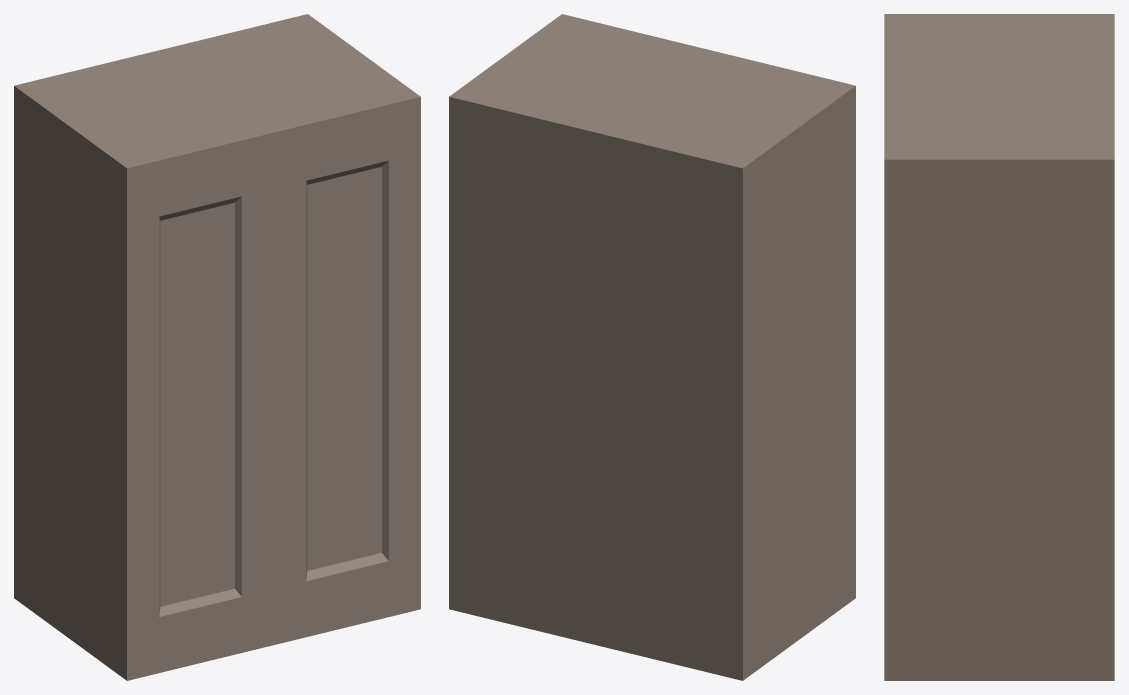
The model's file is WHP-Wall-Cabinet-Double-Door-Shelves_std_001_W18in.glb.
The picture shows the model from 3 angles, left to right: view 1: azimuth 30°, elevation 25°; view 2: azimuth 150°, elevation 25°; view 3: azimuth 270°, elevation 25°; orthographic projection.
Visible parts, largest first — view 1: WHP-Wall-Cabinet-Double-Door-Shelves.std.001_W18in; view 2: WHP-Wall-Cabinet-Double-Door-Shelves.std.001_W18in; view 3: WHP-Wall-Cabinet-Double-Door-Shelves.std.001_W18in.
Boxes of the visible parts, <box> form: WHP-Wall-Cabinet-Double-Door-Shelves.std.001_W18in: <box>14,14,420,680</box>; WHP-Wall-Cabinet-Double-Door-Shelves.std.001_W18in: <box>449,14,855,680</box>; WHP-Wall-Cabinet-Double-Door-Shelves.std.001_W18in: <box>884,14,1114,680</box>.
Size of the model in its own units: 0.4572 by 0.762 by 0.3048.
